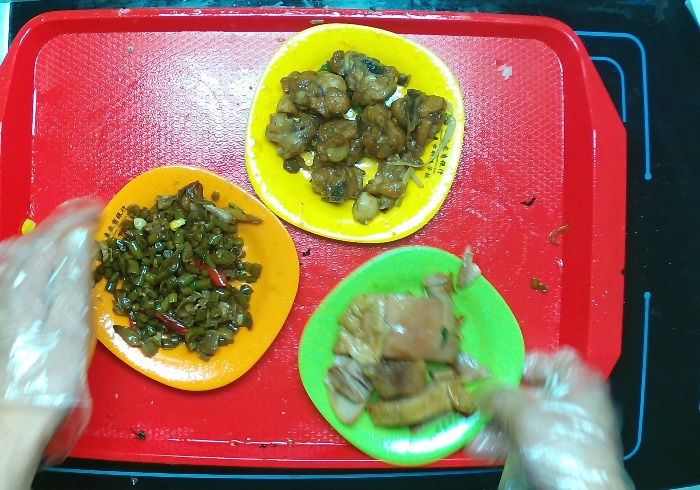YKMZ-Huang_Se_Fang_Die: (242, 8, 478, 251)
YKMZ-Ju_Se_Fang_Die: (67, 153, 303, 396)
YKMZ-Lv_Se_Fang_Die: (297, 235, 533, 478)
